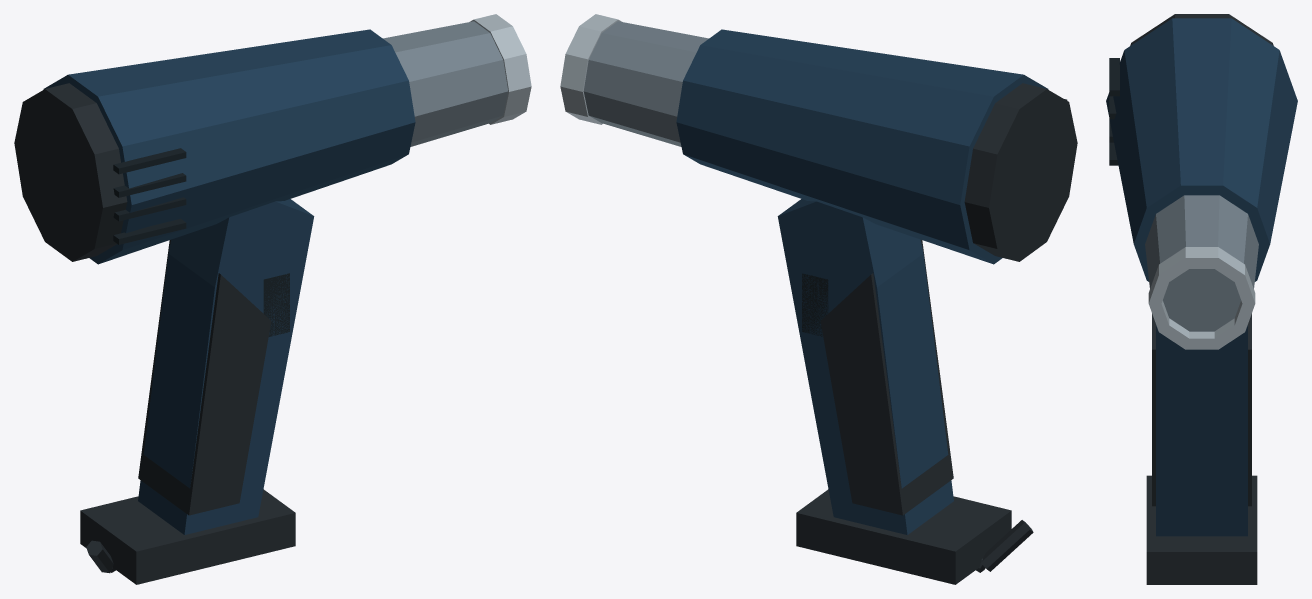
The model's file is b06_heat_gun.glb.
3 renders of one model, left to right at view 1: azimuth 30°, elevation 25°; view 2: azimuth 150°, elevation 25°; view 3: azimuth 270°, elevation 25°, orthographic.
Visible parts, largest first — view 1: b06_heat_gun; view 2: b06_heat_gun; view 3: b06_heat_gun.
Part boxes in pixels (x1=…): b06_heat_gun: x1=14, y1=14, x2=531, y2=584; b06_heat_gun: x1=560, y1=14, x2=1077, y2=584; b06_heat_gun: x1=1106, y1=14, x2=1297, y2=584.
Bounding box in the file's own units: 0.238 × 0.2511 × 0.09.
